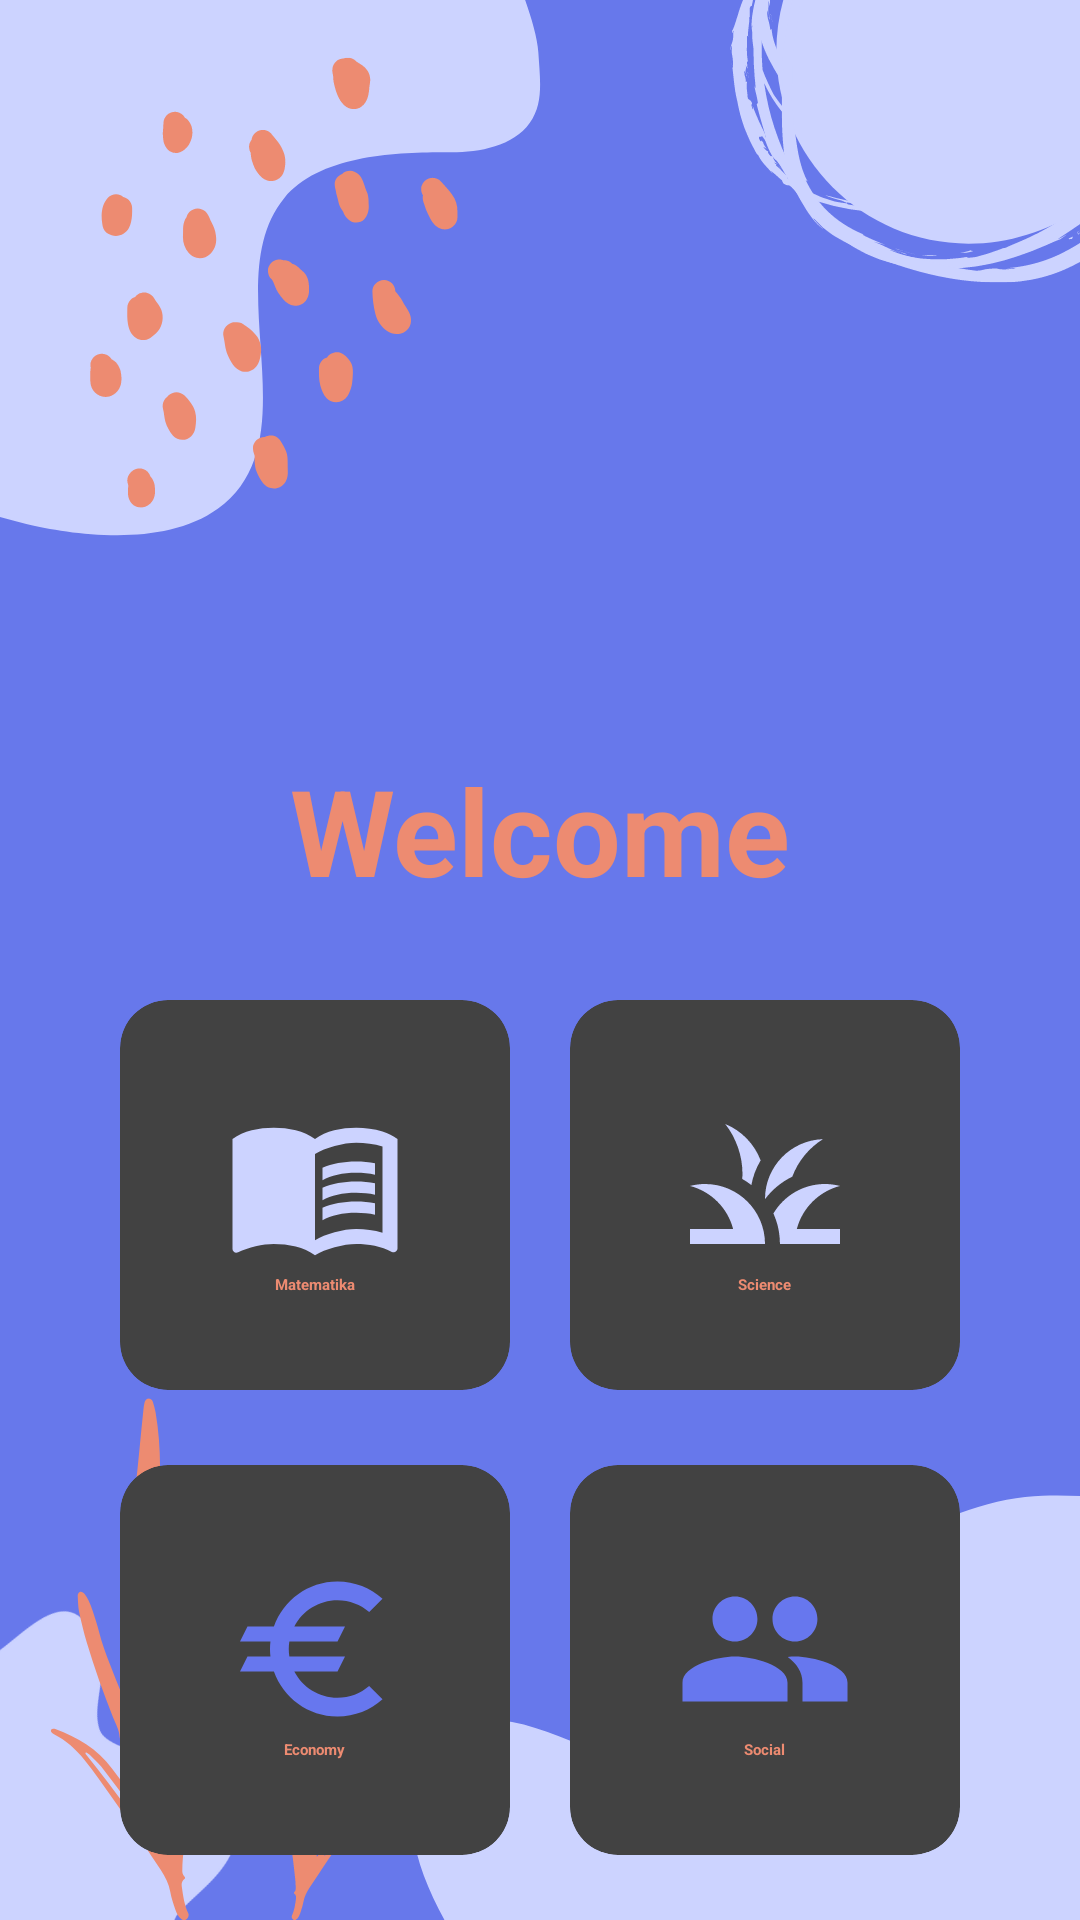

Where icons sit on this 1080w x 1920h app screen, as (x1, y1, x2, y2):
book: (232, 1127, 398, 1255)
euro: (240, 1581, 383, 1717)
grass: (690, 1124, 840, 1244)
